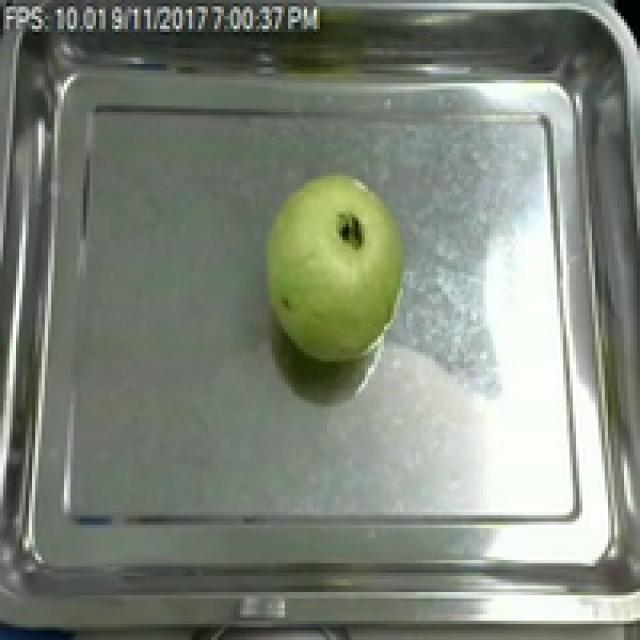Fruit: (256, 163, 416, 368)
